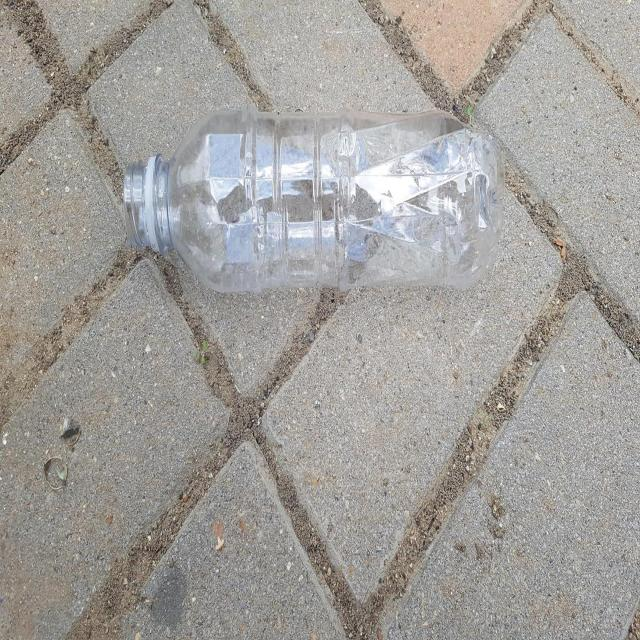plastic: (123, 109, 505, 292)
